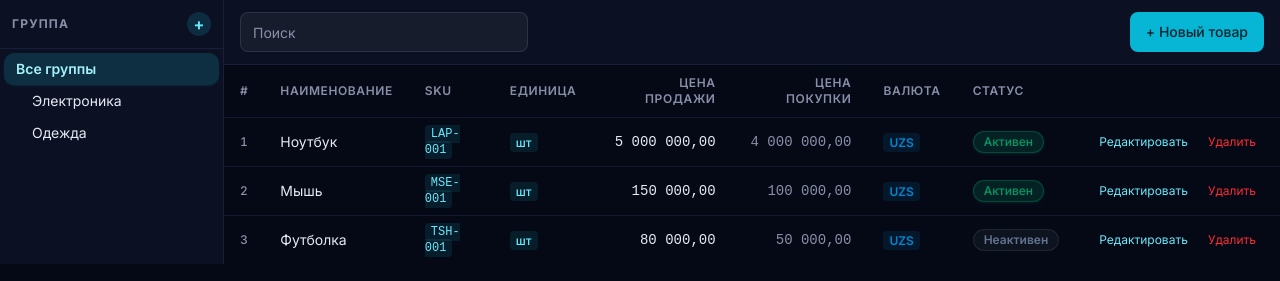
ProductsPage › фильтрует продукты при поиске
Expected: the text "Ноутбук" is shown, [264,118,409,166]
Type "Ноутбук" into the field with placeholder "Поиск" at (384, 32), box [240,12,528,52]
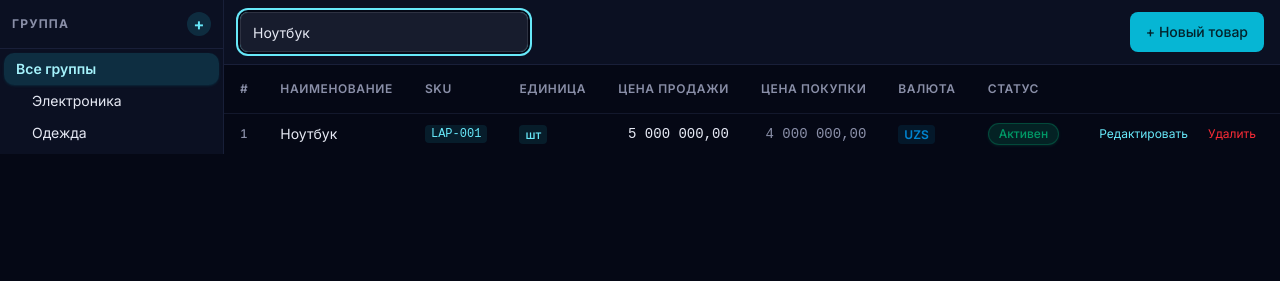
Expected: the text "Ноутбук" is shown, [264,113,409,154]
Expected: the text "Мышь" is gone
